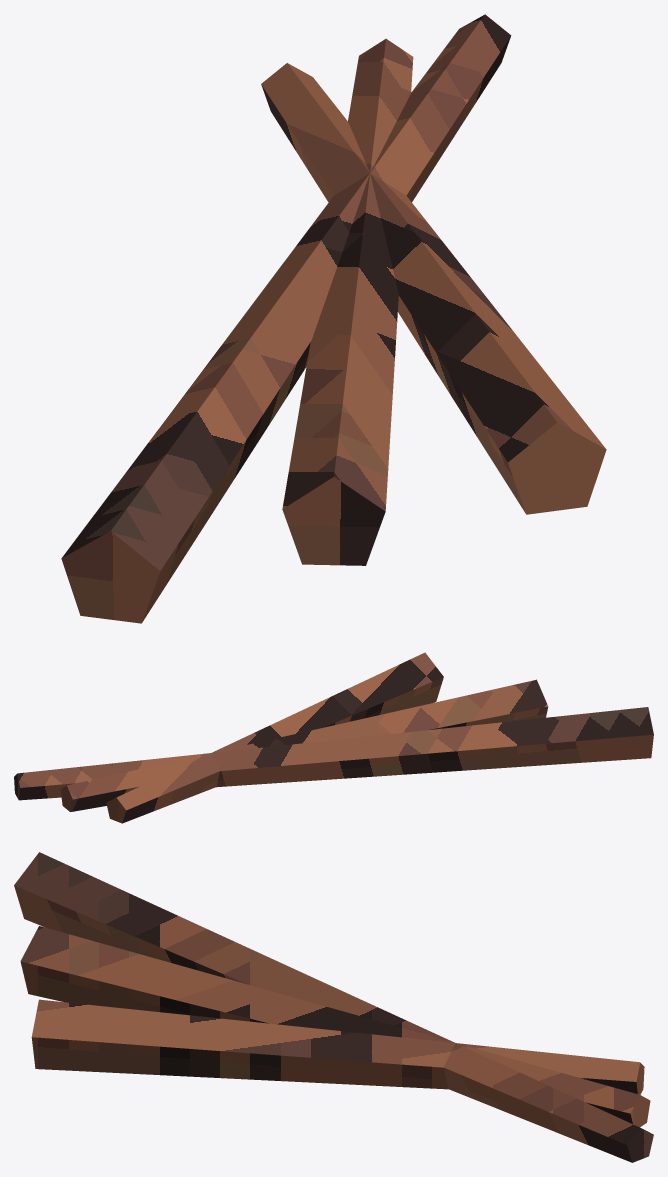
Rendered from enfeite_raiz_chao.glb.
3 views of the same model, one above another, from view 1: azimuth 30°, elevation 25°; view 2: azimuth 150°, elevation 25°; view 3: azimuth 270°, elevation 25° (orthographic). The views are drawn at different scales.
Visible parts, largest first — view 1: bosque_enfeite_raiz_chao; view 2: bosque_enfeite_raiz_chao; view 3: bosque_enfeite_raiz_chao.
Part boxes in pixels (x1,y1,x2,y2): bosque_enfeite_raiz_chao: [61, 14, 606, 623]; bosque_enfeite_raiz_chao: [14, 652, 653, 823]; bosque_enfeite_raiz_chao: [14, 852, 653, 1162].
Size of the model in its own units: 0.3489 by 0.0344 by 0.3301.
Materials: 1 (1 with a texture image).
